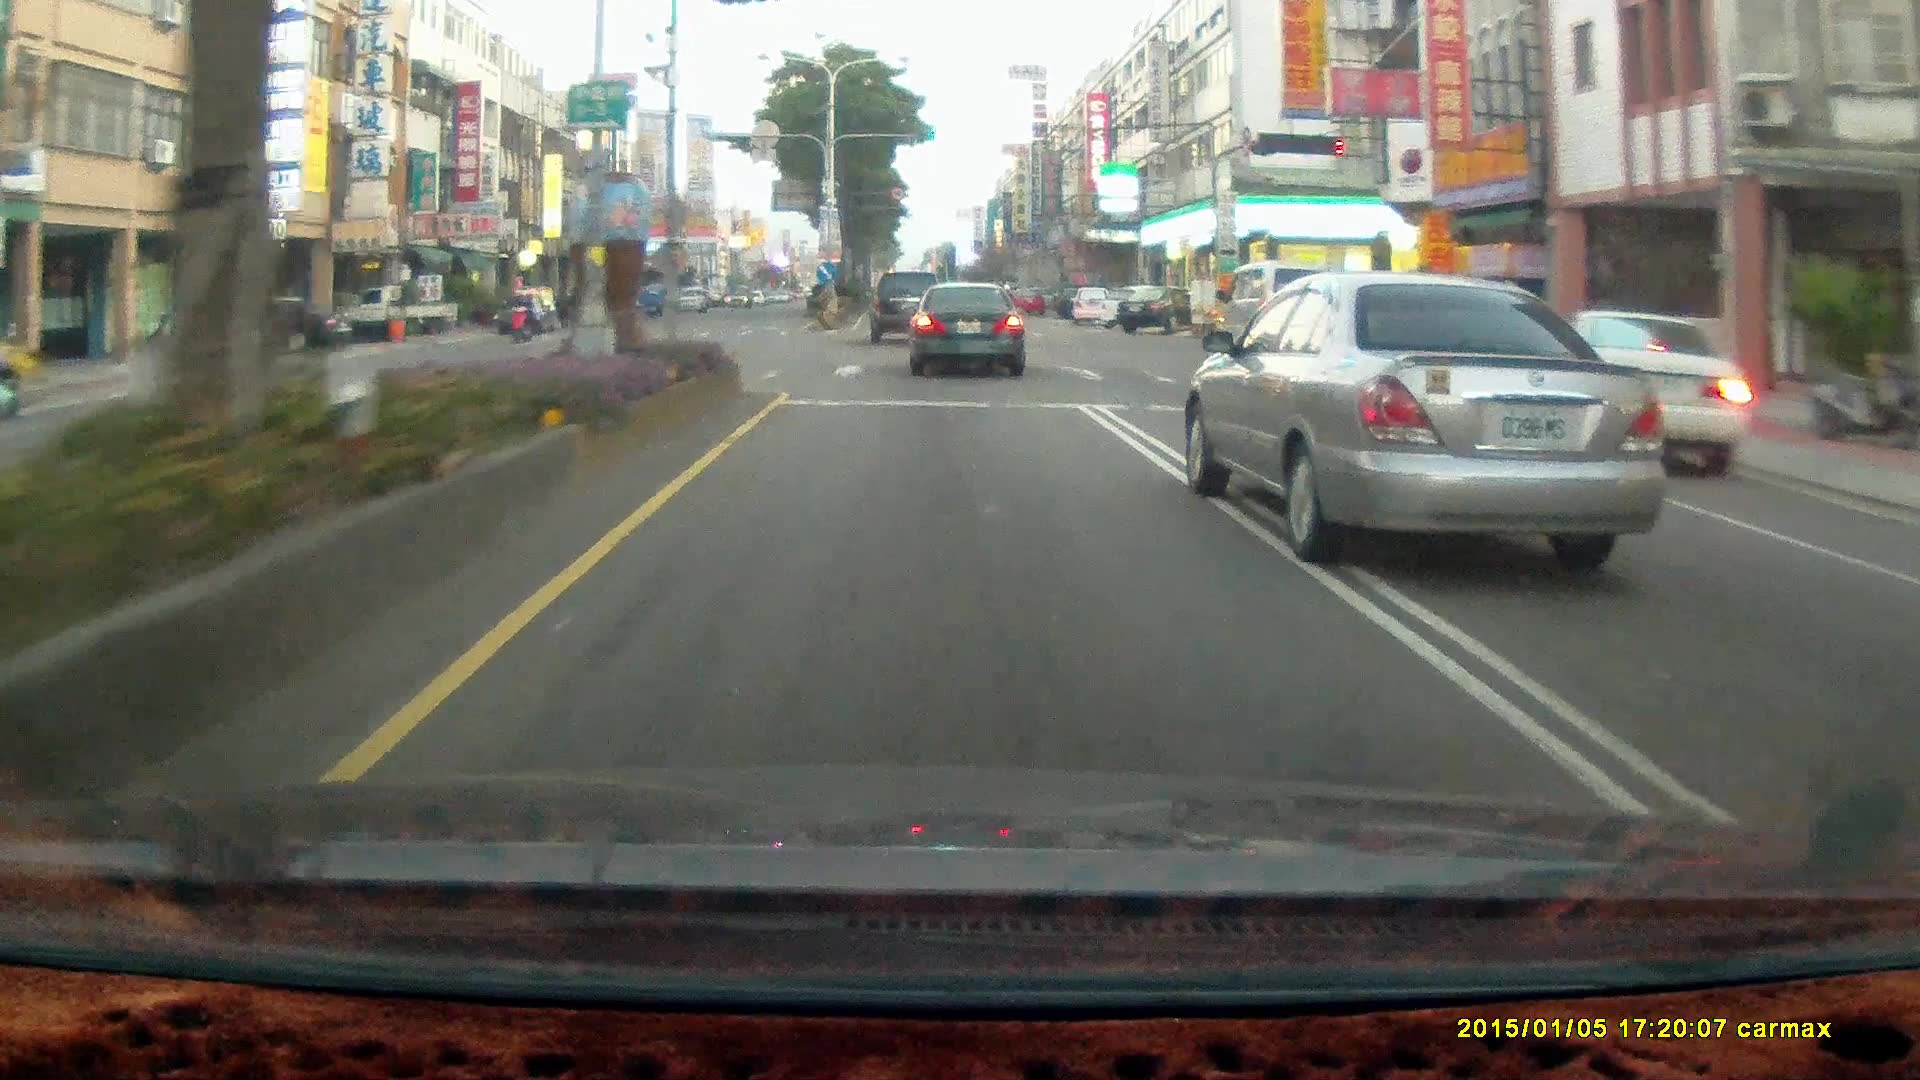rider: (506, 290, 537, 340)
vehicle: (1182, 272, 1676, 567), (1535, 309, 1750, 475), (1223, 266, 1370, 372), (1213, 261, 1360, 367), (907, 282, 1030, 381), (906, 281, 1023, 375), (190, 299, 344, 353), (229, 299, 352, 359), (350, 287, 463, 348), (337, 282, 457, 336), (868, 270, 947, 348), (871, 271, 947, 343), (1117, 284, 1204, 332), (1117, 286, 1182, 337), (495, 299, 555, 334), (1067, 285, 1115, 325), (594, 295, 632, 322), (674, 286, 705, 309), (639, 285, 666, 311)
